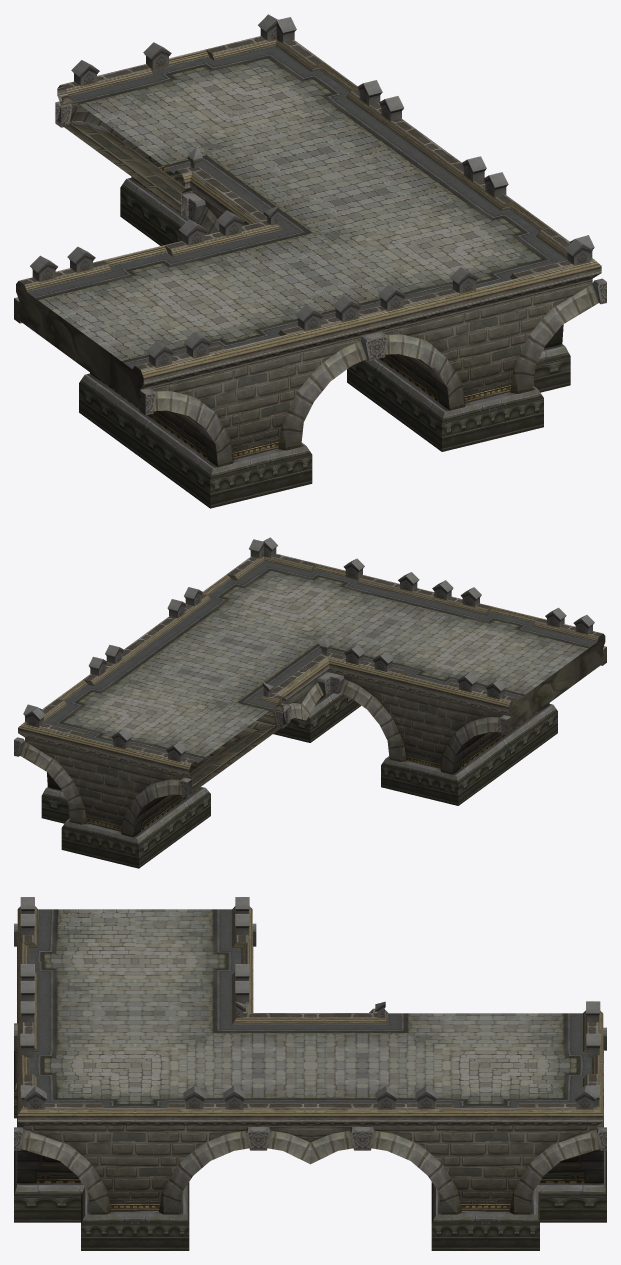
Rendered from new_sh_bridgeout_d.FBX.
The picture shows the model from 3 angles, top to bottom: view 1: azimuth 30°, elevation 25°; view 2: azimuth 150°, elevation 25°; view 3: azimuth 270°, elevation 25°; orthographic projection. The views are drawn at different scales.
Visible parts, largest first — view 1: new_sh_bridgeout_d; view 2: new_sh_bridgeout_d; view 3: new_sh_bridgeout_d.
Boxes of the visible parts, x1,y1,x2,y2 form: new_sh_bridgeout_d: [14, 14, 606, 508]; new_sh_bridgeout_d: [14, 537, 606, 868]; new_sh_bridgeout_d: [14, 897, 606, 1250].
Bounding box in the file's own units: 2563 × 901 × 3095.
Materials: 1 (1 with a texture image).
